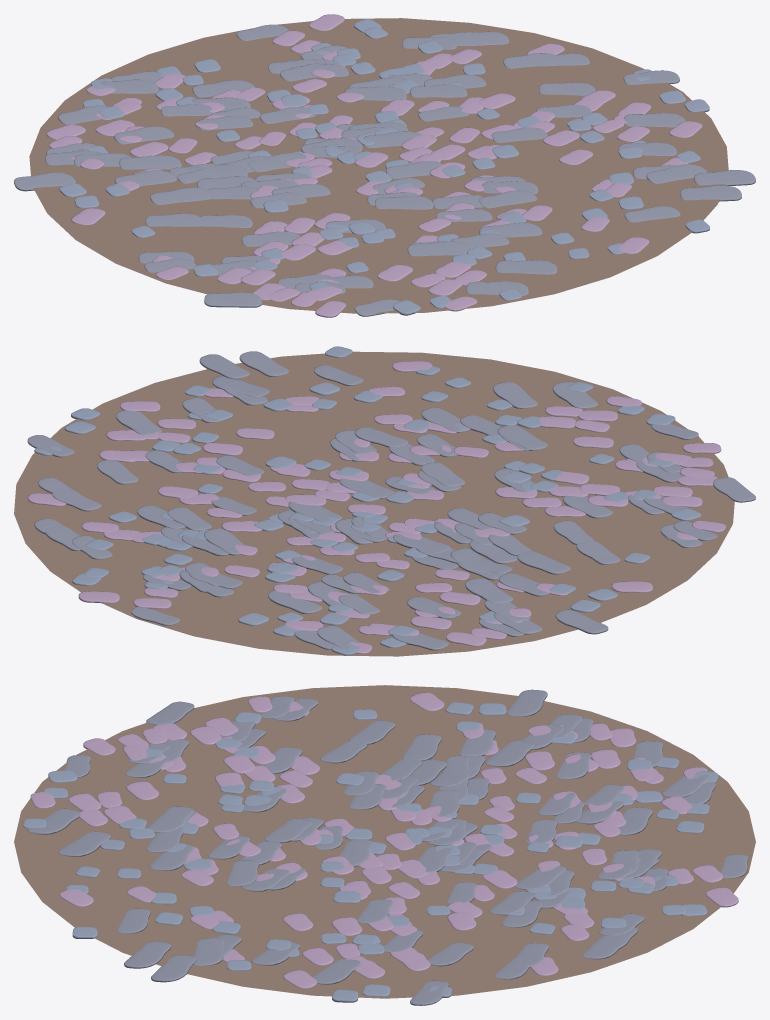
Rendered from public place.fbx.
The picture shows the model from 3 angles, top to bottom: view 1: azimuth 30°, elevation 25°; view 2: azimuth 150°, elevation 25°; view 3: azimuth 270°, elevation 25°; orthographic projection. The views are drawn at different scales.
Parts seen in each view (by area): view 1: Circle, Circle|Cube.068|Dupli|28, Circle|Cube.068|Dupli|29, Circle|Cube.068|Dupli|18, Circle|Cube.068|Dupli|14, Circle|Cube.068|Dupli|177, Circle|Cube.068|Dupli|244, Circle|Cube.068|Dupli|160, Circle|Cube.068|Dupli|229, Circle|Cube.068|Dupli|116, Circle|Cube.068|Dupli|174, Circle|Cube.068|Dupli|172 (+37 smaller); view 2: Circle, Circle|Cube.068|Dupli|14, Circle|Cube.068|Dupli|29, Circle|Cube.068|Dupli|160, Circle|Cube.068|Dupli|28, Circle|Cube.068|Dupli|244, Circle|Cube.068|Dupli|229, Circle|Cube.068|Dupli|177, Circle|Cube.068|Dupli|116, Circle|Cube.068|Dupli|172, Circle|Cube.068|Dupli|18, Circle|Cube.068|Dupli|298 (+26 smaller); view 3: Circle, Circle|Cube.068|Dupli|29, Circle|Cube.068|Dupli|28, Circle|Cube.068|Dupli|244, Circle|Cube.068|Dupli|160, Circle|Cube.068|Dupli|14, Circle|Cube.068|Dupli|116, Circle|Cube.068|Dupli|229, Circle|Cube.068|Dupli|177, Circle|Cube.068|Dupli|172, Circle|Cube.068|Dupli|135, Circle|Cube.068|Dupli|143 (+28 smaller).
Part boxes in pixels (x1=…): Circle: x1=29, y1=18, x2=728, y2=313; Circle|Cube.068|Dupli|28: x1=694, y1=170, x2=755, y2=185; Circle|Cube.068|Dupli|29: x1=680, y1=185, x2=741, y2=201; Circle|Cube.068|Dupli|18: x1=204, y1=292, x2=261, y2=307; Circle|Cube.068|Dupli|14: x1=14, y1=172, x2=75, y2=191; Circle|Cube.068|Dupli|177: x1=407, y1=241, x2=469, y2=256; Circle|Cube.068|Dupli|244: x1=119, y1=155, x2=181, y2=169; Circle|Cube.068|Dupli|160: x1=495, y1=260, x2=557, y2=274; Circle|Cube.068|Dupli|229: x1=150, y1=187, x2=210, y2=204; Circle|Cube.068|Dupli|116: x1=624, y1=113, x2=685, y2=127; Circle|Cube.068|Dupli|174: x1=375, y1=196, x2=433, y2=209; Circle|Cube.068|Dupli|172: x1=466, y1=281, x2=528, y2=295; Circle: x1=14, y1=351, x2=734, y2=656; Circle|Cube.068|Dupli|14: x1=555, y1=609, x2=608, y2=634; Circle|Cube.068|Dupli|29: x1=239, y1=351, x2=288, y2=376; Circle|Cube.068|Dupli|160: x1=493, y1=382, x2=537, y2=408; Circle|Cube.068|Dupli|28: x1=199, y1=354, x2=249, y2=379; Circle|Cube.068|Dupli|244: x1=465, y1=578, x2=513, y2=603; Circle|Cube.068|Dupli|229: x1=517, y1=551, x2=570, y2=574; Circle|Cube.068|Dupli|177: x1=497, y1=425, x2=547, y2=450; Circle|Cube.068|Dupli|116: x1=116, y1=410, x2=162, y2=434; Circle|Cube.068|Dupli|172: x1=552, y1=381, x2=597, y2=408; Circle|Cube.068|Dupli|18: x1=713, y1=477, x2=755, y2=502; Circle|Cube.068|Dupli|298: x1=268, y1=590, x2=322, y2=613; Circle: x1=14, y1=685, x2=755, y2=998; Circle|Cube.068|Dupli|29: x1=124, y1=941, x2=170, y2=968; Circle|Cube.068|Dupli|28: x1=151, y1=955, x2=196, y2=982; Circle|Cube.068|Dupli|244: x1=485, y1=740, x2=534, y2=766; Circle|Cube.068|Dupli|160: x1=58, y1=831, x2=110, y2=856; Circle|Cube.068|Dupli|14: x1=507, y1=689, x2=547, y2=716; Circle|Cube.068|Dupli|116: x1=313, y1=958, x2=360, y2=984; Circle|Cube.068|Dupli|229: x1=402, y1=734, x2=441, y2=761; Circle|Cube.068|Dupli|177: x1=147, y1=806, x2=193, y2=832; Circle|Cube.068|Dupli|172: x1=27, y1=808, x2=80, y2=834; Circle|Cube.068|Dupli|135: x1=193, y1=938, x2=224, y2=965; Circle|Cube.068|Dupli|143: x1=226, y1=860, x2=258, y2=886.
Size of the model in its own units: 2042 by 12.99 by 2000.
